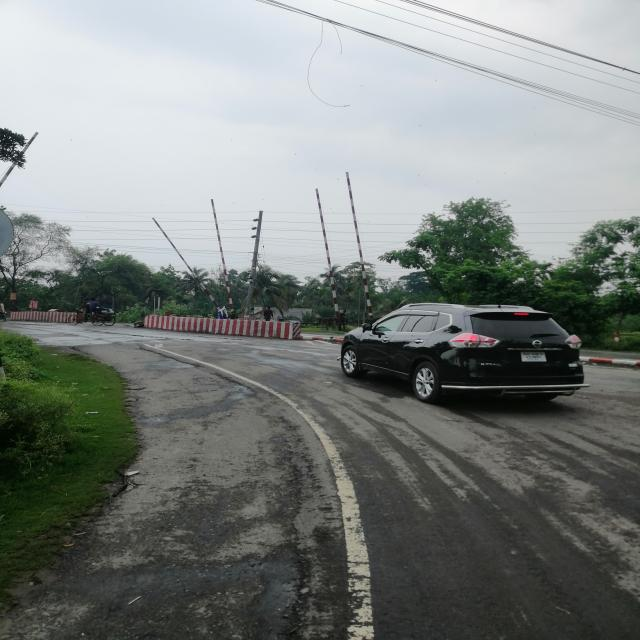Car: (332, 297, 592, 414)
